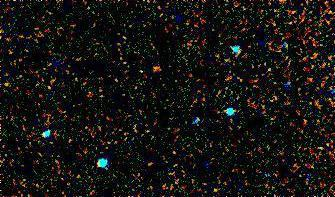star: (143, 51, 173, 81)
